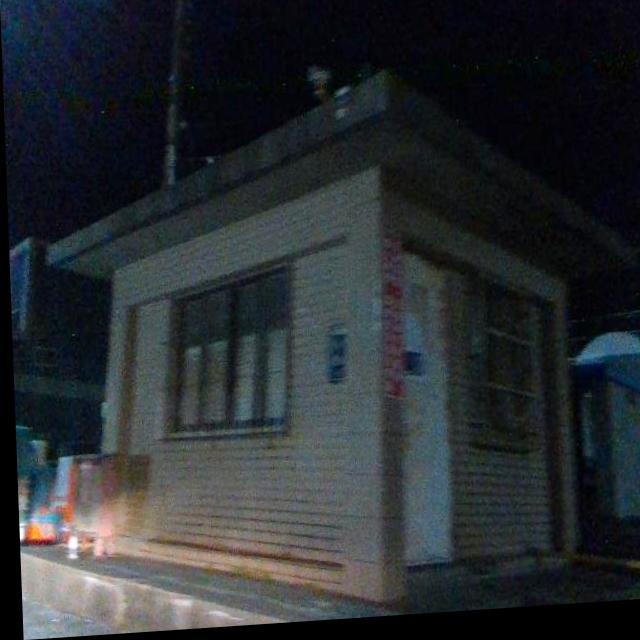pollute: (12, 416, 96, 550)
